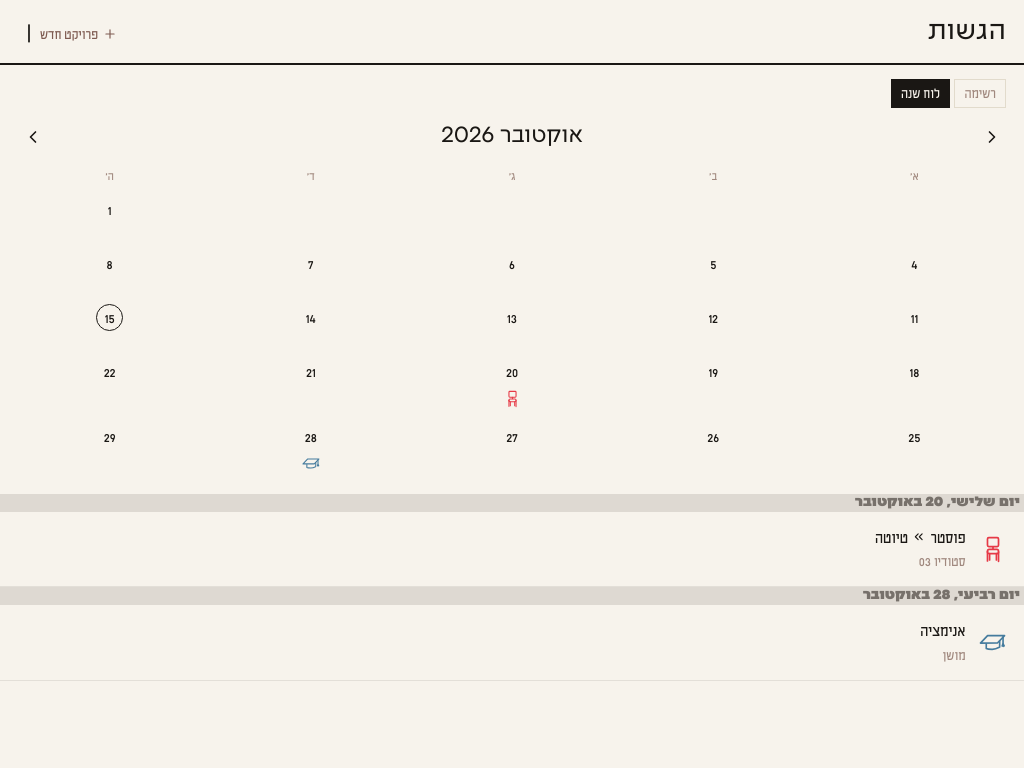
it: ProjectCalendar screen › lists only the tapped day and clears it on a second tap
Click the button named "28 באוקטובר". click: (311, 448)
box: left=210, top=416, right=411, bottom=480
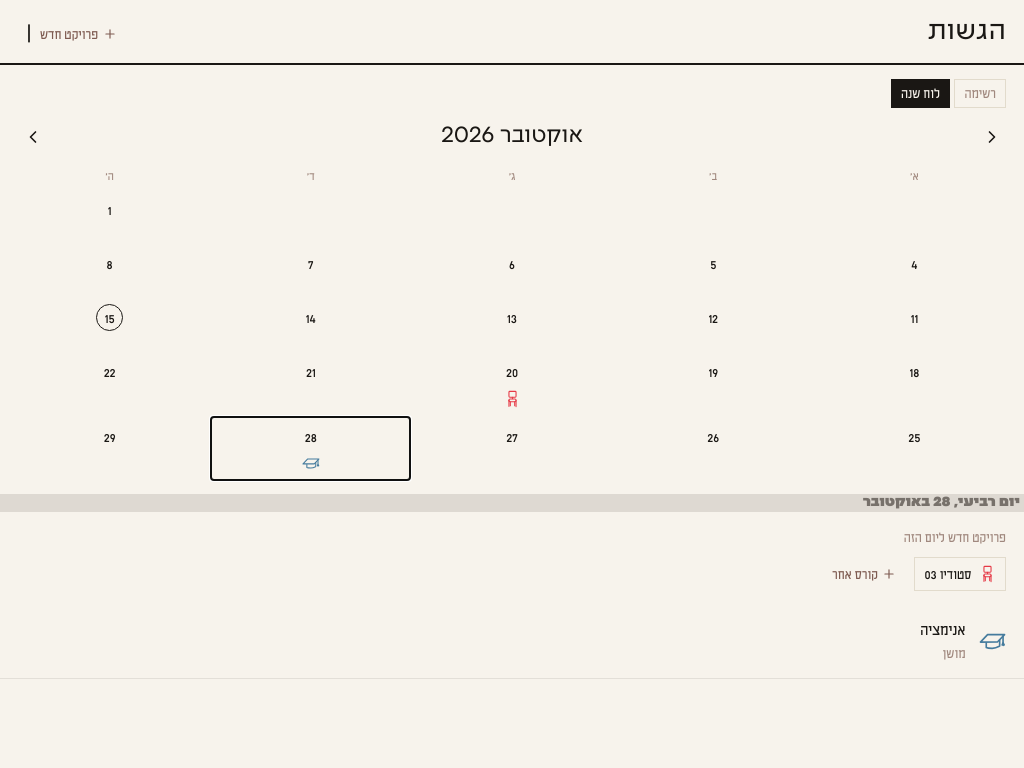
Expected: the text "אנימציה" is shown, left=920, top=618, right=966, bottom=640
Expected: the link "טיוטה" is gone
Click the button named "28 באוקטובר". click: (311, 448)
box: left=210, top=416, right=411, bottom=480
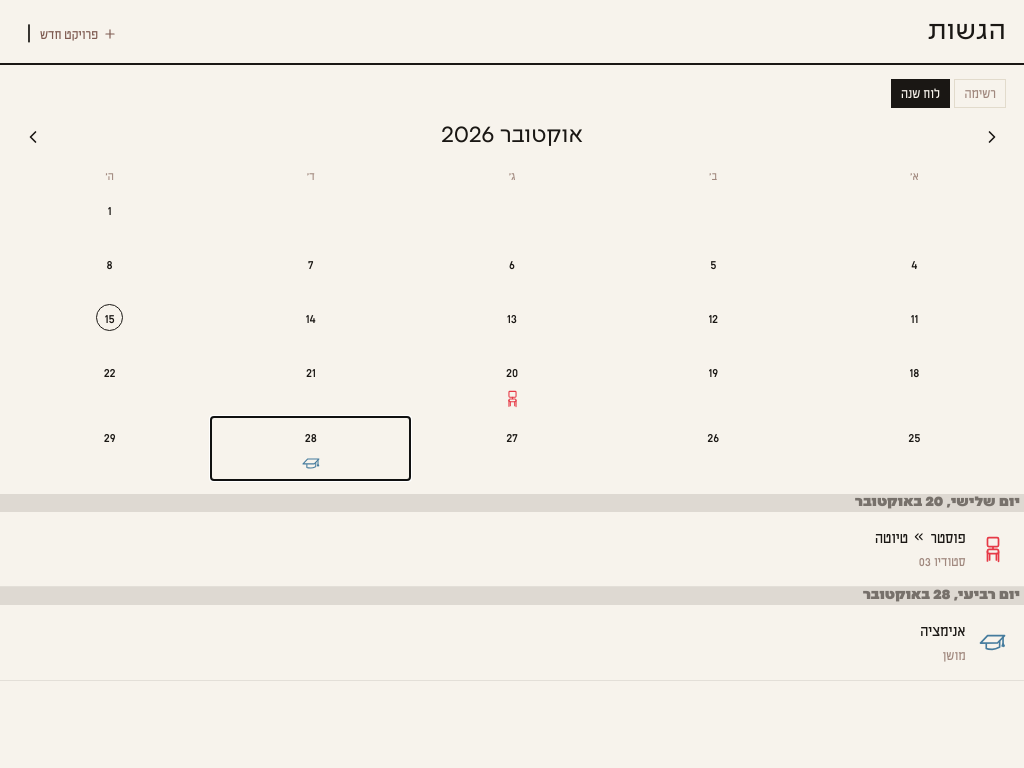
Expected: the text "טיוטה" is shown, left=875, top=526, right=908, bottom=548
